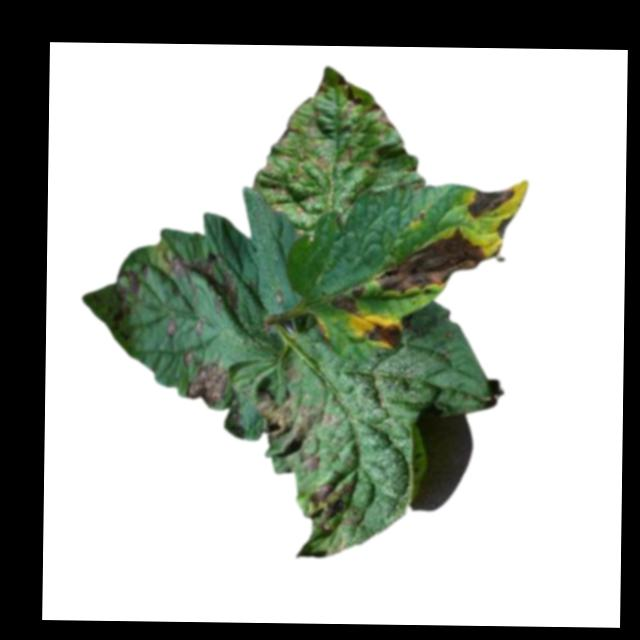Early_blight: (376, 225, 488, 299), (252, 393, 330, 473), (159, 248, 244, 317), (307, 480, 358, 531), (185, 361, 229, 411), (466, 185, 514, 220), (369, 315, 404, 353), (336, 74, 363, 120), (331, 284, 367, 317), (123, 261, 151, 295), (363, 104, 397, 129), (497, 216, 512, 239)
